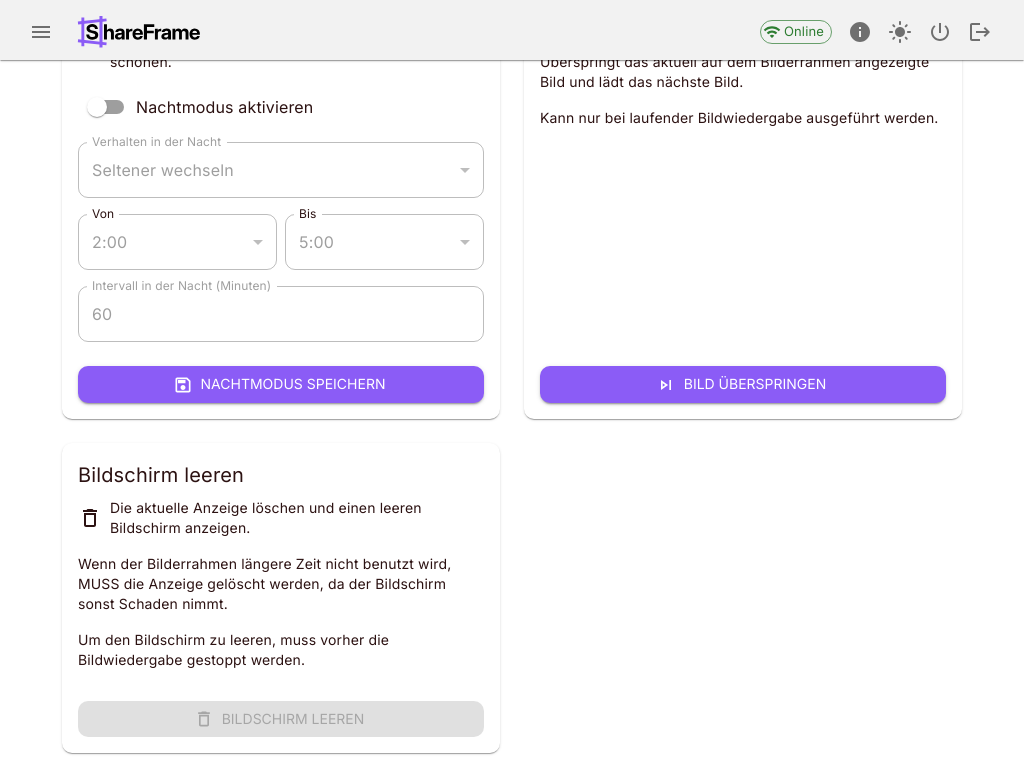
it: frame actions › reports a skip rejected during a refresh
The width and height of the screenshot is (1024, 768).
(page scrolled)
Step 1. Click the button "Bild überspringen" → (743, 385), box [540,366,946,403]
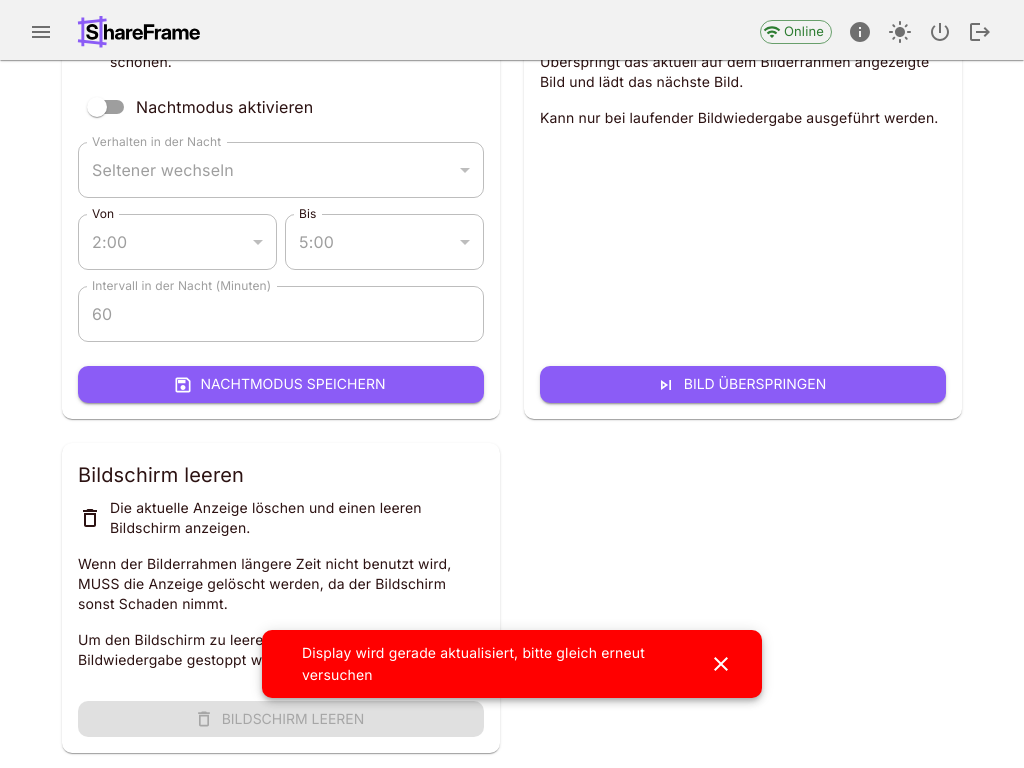
expect the heading "Display wird gerade aktualisiert, bitte gleich erneut versuchen" is shown: met, box [302,642,688,686]
